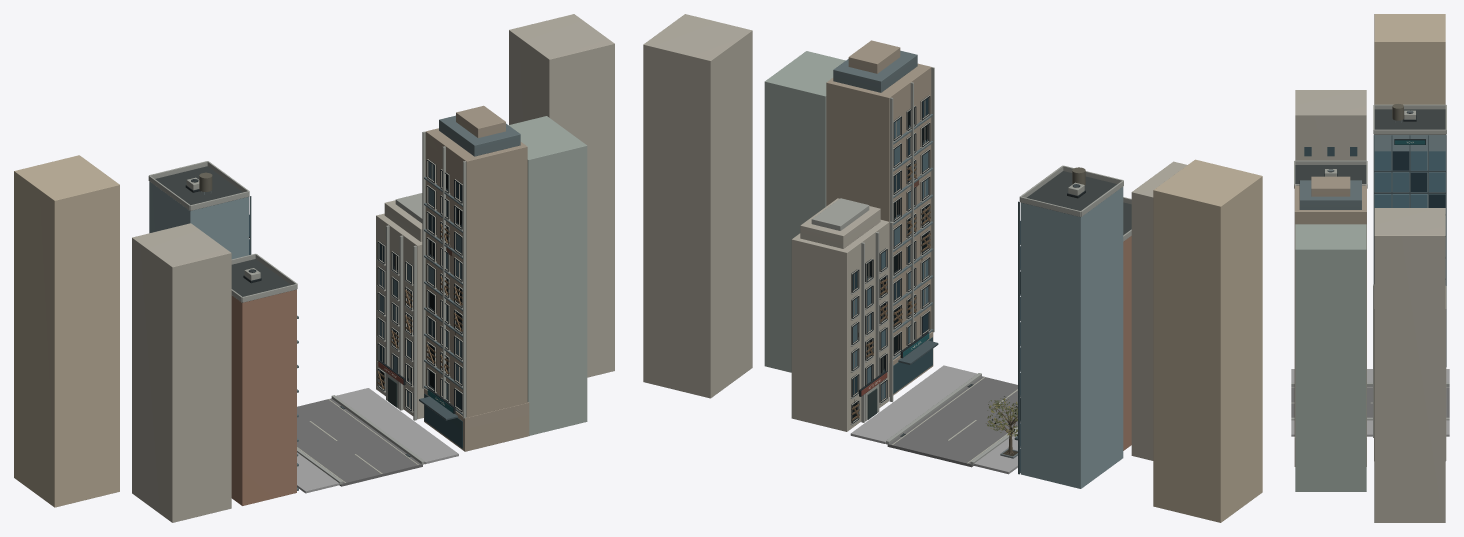
The model's file is city_hd_19.glb.
3 views of the same model, side by side, from view 1: azimuth 30°, elevation 25°; view 2: azimuth 150°, elevation 25°; view 3: azimuth 270°, elevation 25° (orthographic). The views are drawn at different scales.
Parts seen in each view (by area): view 1: CITY_sign_red, Background city building.001, CITY_shop_glass, Background city building.002, Modern apartment main volume, CITY_trim, CITY_PBR_asphalt, CITY_recess, CITY_PBR_pavement, Office core, CITY_frame, CITY_roof (+6 smaller); view 2: CITY_sign_red, Background city building.001, Office core, Background city building.002, CITY_shop_glass, CITY_trim, CITY_PBR_asphalt, CITY_recess, CITY_PBR_pavement, CITY_frame, CITY_modern_panel, CITY_roof (+8 smaller); view 3: CITY_sign_red, Background city building.002, Background city building.001, CITY_shop_glass, CITY_office_glass, CITY_roof, Office core, CITY_trim, CITY_modern_panel, CITY_office_frame, CITY_glass_dark, CITY_PBR_asphalt (+2 smaller).
Part boxes in pixels (x1=…): CITY_sign_red: x1=132, y1=14, x2=614, y2=522; Background city building.001: x1=14, y1=155, x2=119, y2=507; CITY_shop_glass: x1=424, y1=105, x2=529, y2=451; Background city building.002: x1=509, y1=116, x2=587, y2=435; Modern apartment main volume: x1=231, y1=289, x2=296, y2=505; CITY_trim: x1=148, y1=131, x2=466, y2=420; CITY_PBR_asphalt: x1=297, y1=398, x2=422, y2=486; CITY_recess: x1=377, y1=159, x2=462, y2=411; CITY_PBR_pavement: x1=297, y1=388, x2=458, y2=493; Office core: x1=149, y1=181, x2=248, y2=259; CITY_frame: x1=378, y1=159, x2=462, y2=412; CITY_roof: x1=155, y1=166, x2=290, y2=302; CITY_sign_red: x1=643, y1=14, x2=1187, y2=460; Background city building.001: x1=1153, y1=159, x2=1262, y2=522; Office core: x1=1020, y1=187, x2=1123, y2=488; Background city building.002: x1=764, y1=51, x2=845, y2=372; CITY_shop_glass: x1=826, y1=40, x2=933, y2=396; CITY_trim: x1=811, y1=67, x2=1131, y2=425; CITY_PBR_asphalt: x1=887, y1=376, x2=1020, y2=467; CITY_recess: x1=851, y1=95, x2=930, y2=423; CITY_PBR_pavement: x1=850, y1=365, x2=1020, y2=474; CITY_frame: x1=851, y1=95, x2=929, y2=423; CITY_modern_panel: x1=833, y1=50, x2=933, y2=359; CITY_roof: x1=1023, y1=171, x2=1131, y2=234; CITY_sign_red: x1=1295, y1=90, x2=1446, y2=522; Background city building.002: x1=1295, y1=224, x2=1366, y2=491; Background city building.001: x1=1374, y1=14, x2=1445, y2=104; CITY_shop_glass: x1=1294, y1=176, x2=1366, y2=466; CITY_office_glass: x1=1374, y1=151, x2=1445, y2=207; CITY_roof: x1=1295, y1=109, x2=1445, y2=183; Office core: x1=1374, y1=135, x2=1445, y2=285; CITY_trim: x1=1294, y1=104, x2=1446, y2=437; CITY_modern_panel: x1=1299, y1=180, x2=1361, y2=209; CITY_office_frame: x1=1373, y1=135, x2=1446, y2=366; CITY_glass_dark: x1=1392, y1=151, x2=1445, y2=207; CITY_PBR_asphalt: x1=1291, y1=386, x2=1449, y2=417.
Bounding box in the file's own units: 57.3 × 32.26 × 16.
